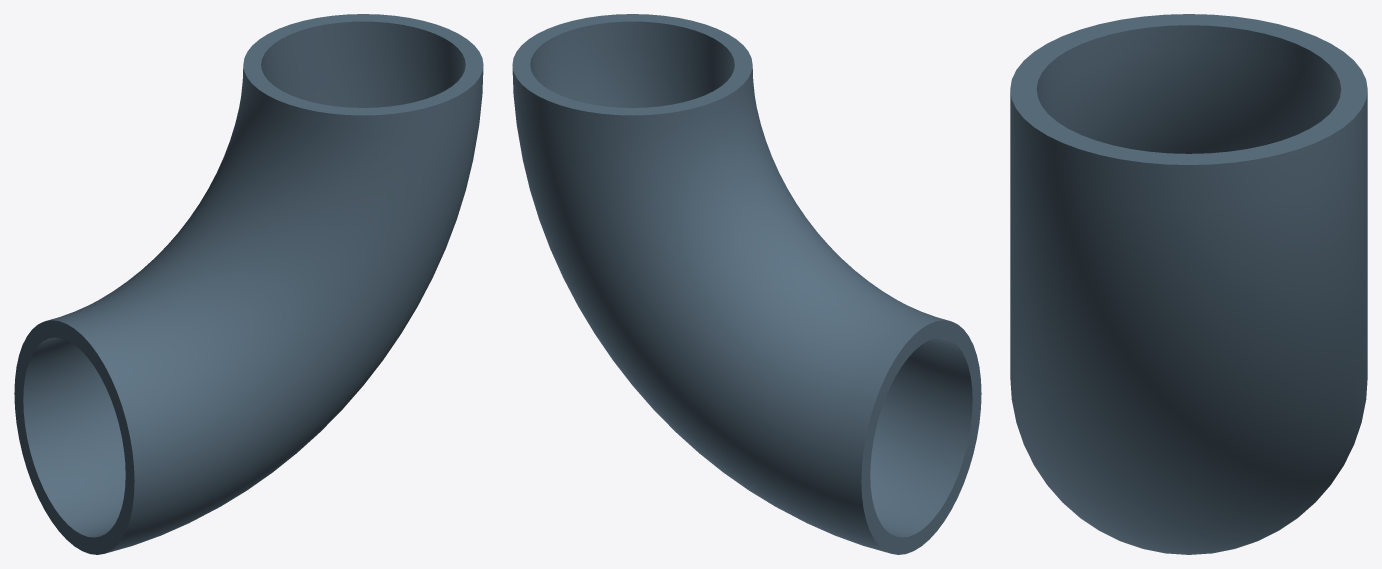
Rendered from otvod-90-108x8-R150.glb.
3 renders of one model, left to right at view 1: azimuth 30°, elevation 25°; view 2: azimuth 150°, elevation 25°; view 3: azimuth 270°, elevation 25°, orthographic. The views are drawn at different scales.
Parts seen in each view (by area): view 1: Open CASCADE STEP translator 7.9 40; view 2: Open CASCADE STEP translator 7.9 40; view 3: Open CASCADE STEP translator 7.9 40.
Boxes of the visible parts, left/top/right/bottom form: Open CASCADE STEP translator 7.9 40: left=14, top=14, right=483, bottom=554; Open CASCADE STEP translator 7.9 40: left=512, top=14, right=981, bottom=554; Open CASCADE STEP translator 7.9 40: left=1010, top=14, right=1367, bottom=554.
Bounding box in the file's own units: 204 × 204 × 108.
